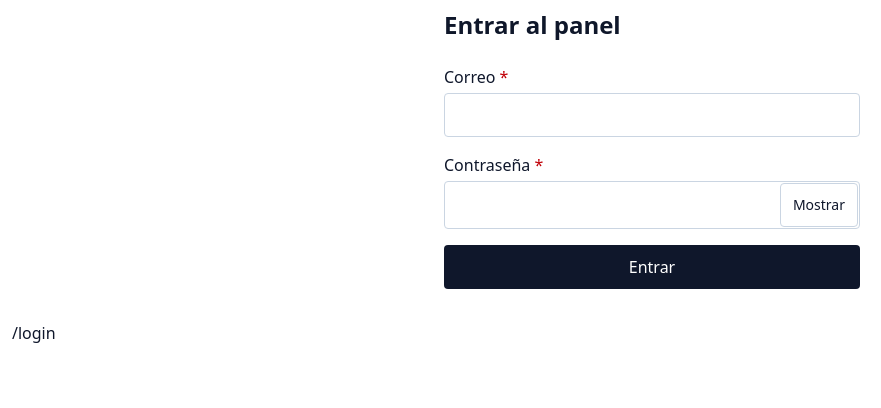
Test case: LoginPage › valida los campos obligatorios con mensajes junto al campo (ux §4.a)
This screenshot has width=881, height=408.
Click the button "Entrar" at [652, 267], box [444, 245, 860, 289]
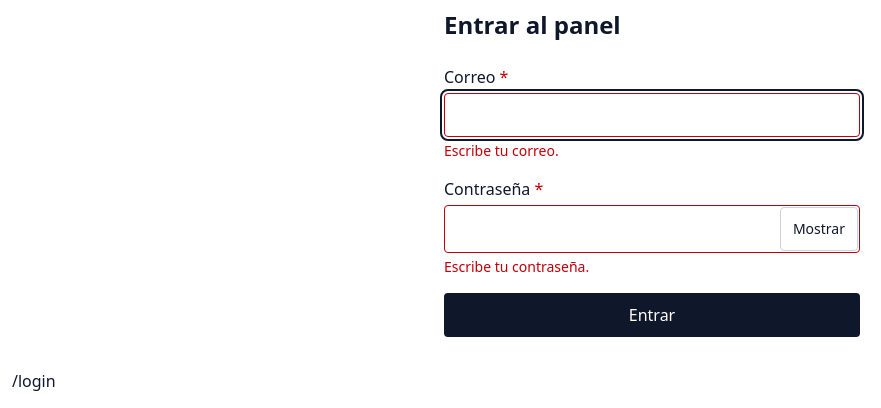
expect the text "Escribe tu correo." is shown: met, box [444, 141, 559, 160]
expect the text "Escribe tu contraseña." is shown: met, box [444, 257, 589, 276]
